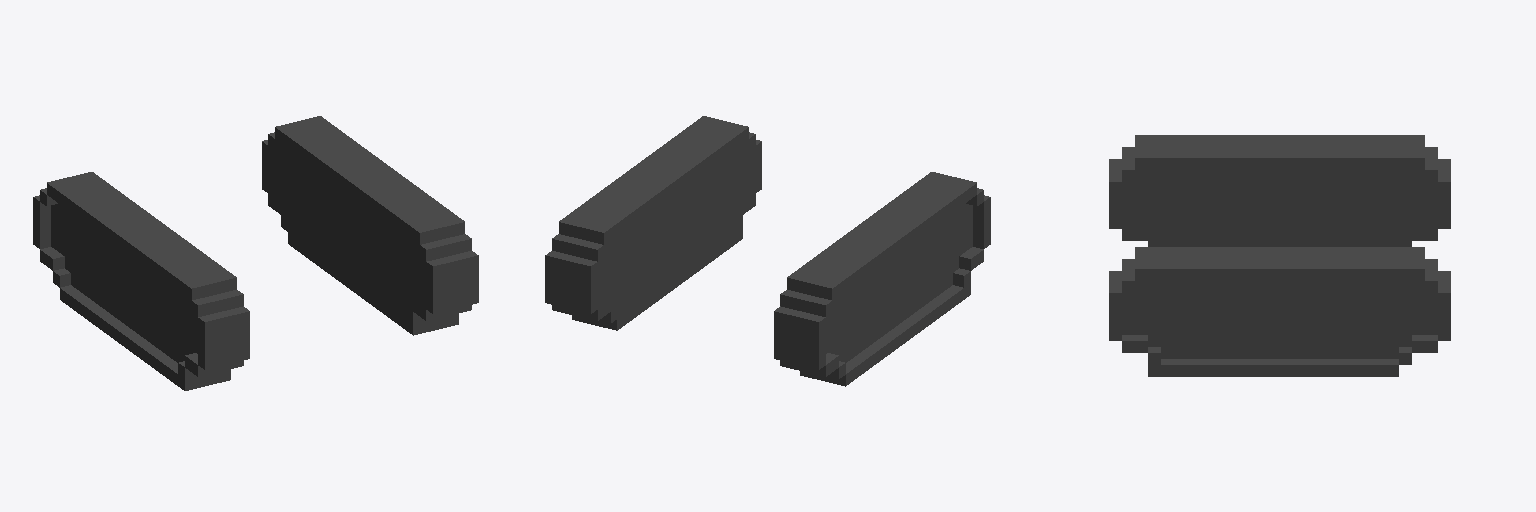
3 renders of one model, left to right at view 1: azimuth 30°, elevation 25°; view 2: azimuth 150°, elevation 25°; view 3: azimuth 270°, elevation 25°, orthographic.
Parts seen in each view (by area): view 1: object 1; view 2: object 1; view 3: object 1.
Boxes of the visible parts, x1=… form: object 1: x1=33, y1=116, x2=478, y2=390; object 1: x1=545, y1=116, x2=990, y2=386; object 1: x1=1109, y1=135, x2=1450, y2=376.
Bounding box in the file's own units: 2.4 × 0.9 × 2.6.
Materials: 1 (1 with a texture image).